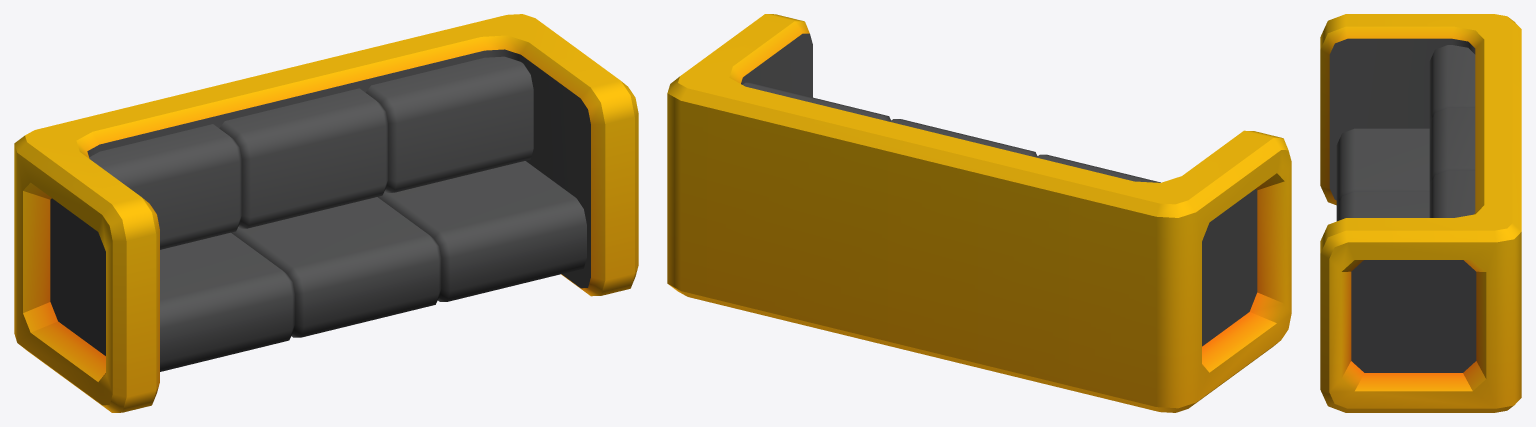
Rendered from Sofa_009.fbx.
3 views of the same model, side by side, from view 1: azimuth 30°, elevation 25°; view 2: azimuth 150°, elevation 25°; view 3: azimuth 270°, elevation 25° (orthographic). The views are drawn at different scales.
Visible parts, largest first — view 1: Sofa_009; view 2: Sofa_009; view 3: Sofa_009.
Boxes of the visible parts, bbox=[...] form: Sofa_009: bbox=[14, 14, 638, 412]; Sofa_009: bbox=[667, 14, 1291, 412]; Sofa_009: bbox=[1320, 14, 1521, 412].
Bounding box in the file's own units: 225 × 85.46 × 85.46.
